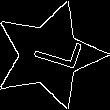L_W: (19, 33, 80, 77)
